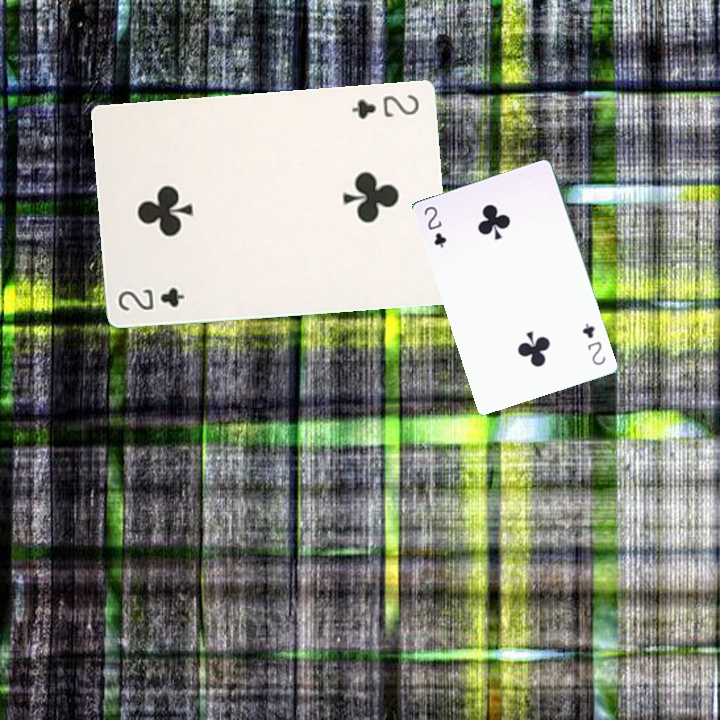2c: (347, 90, 422, 121), (114, 283, 186, 314), (578, 319, 608, 368), (420, 202, 449, 251)
